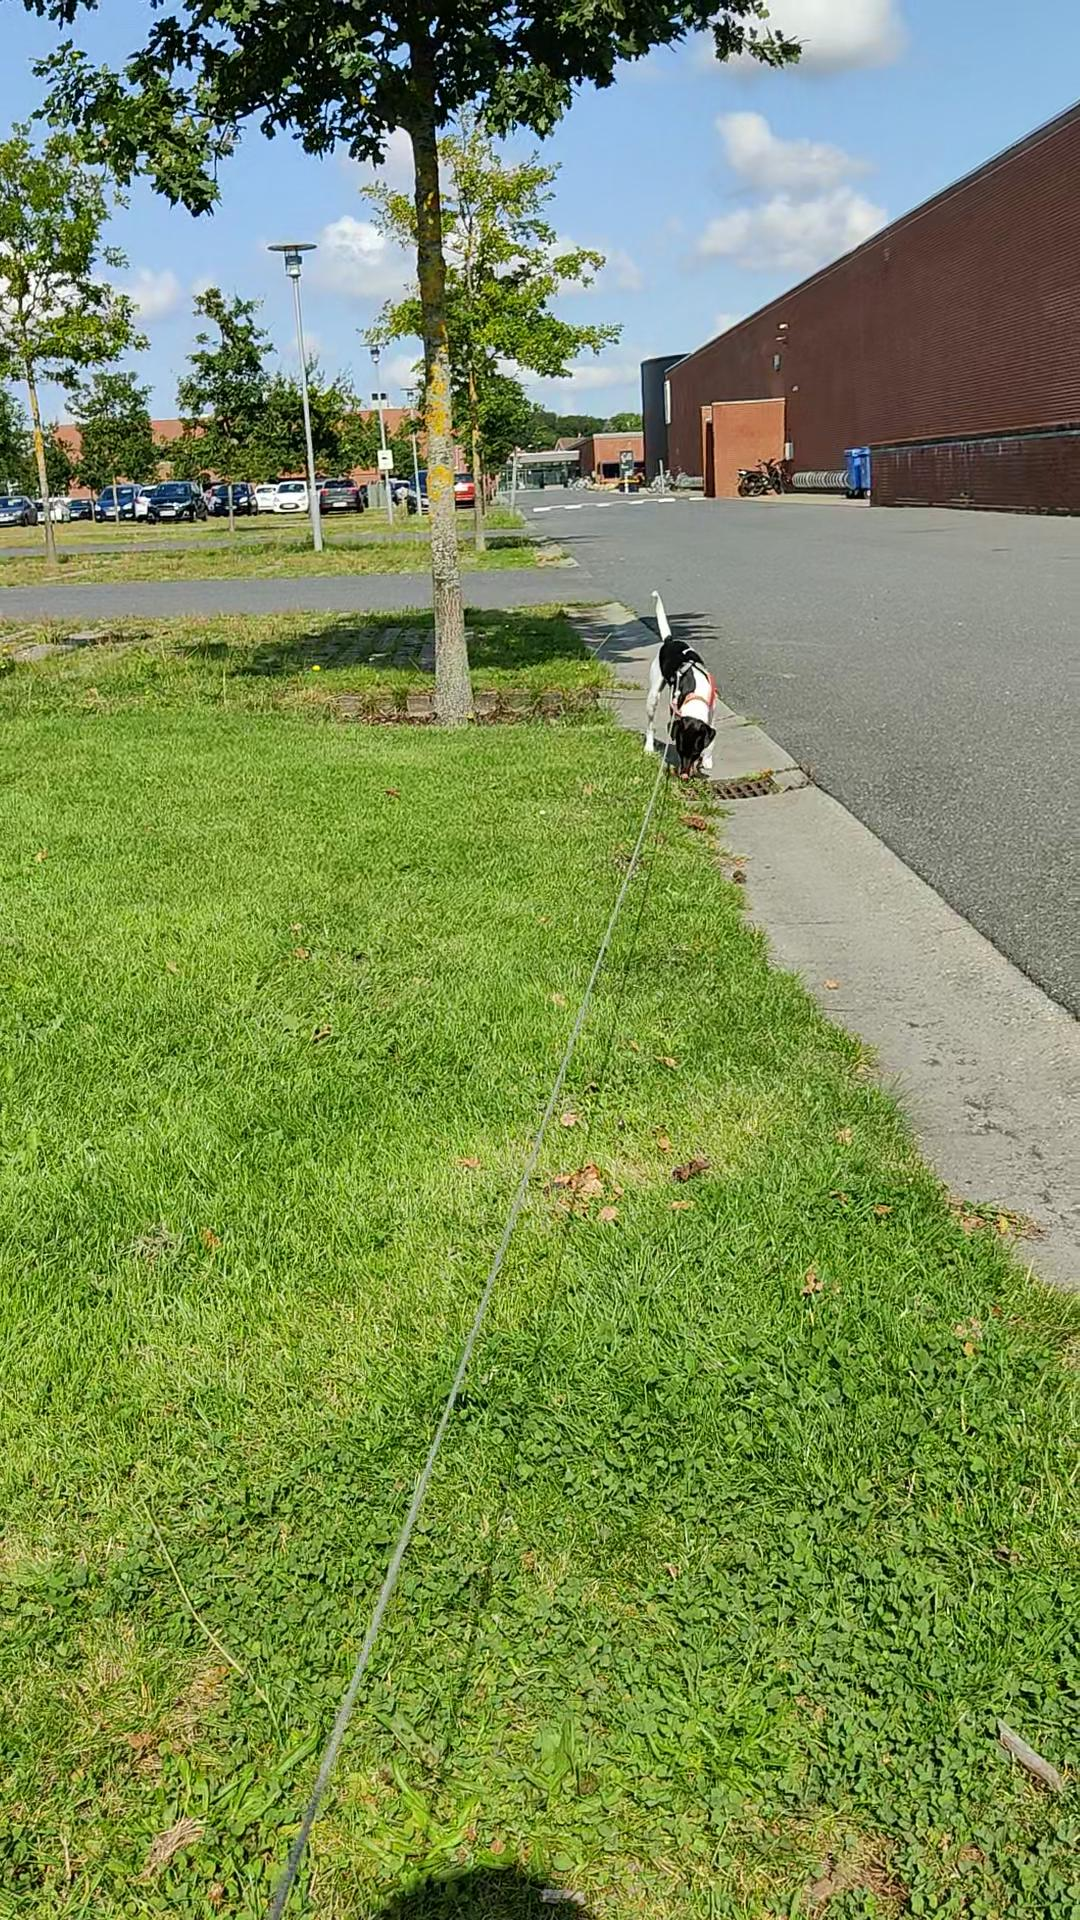Dog: (636, 585, 728, 783)
